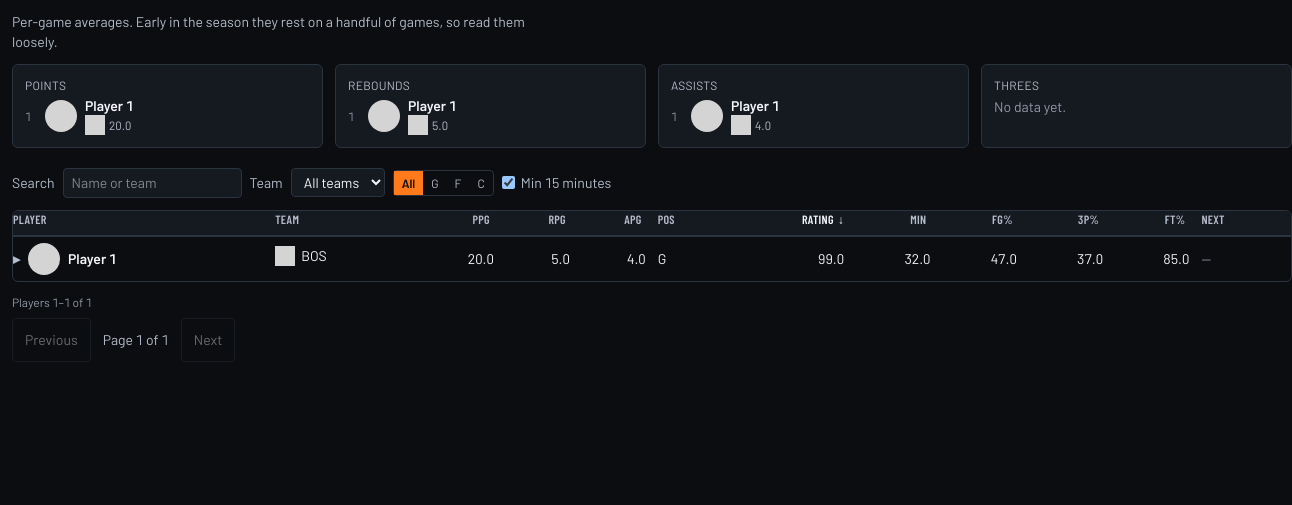
it: PlayerHubPanel › opens a player's detail with their last ten games
Expected: the text "Player 1" is shown, top-left (28, 242), bottom-right (116, 274)
Step 1. Click the button "▸ Player 1" → (65, 258), box top-left (13, 242), bottom-right (116, 274)
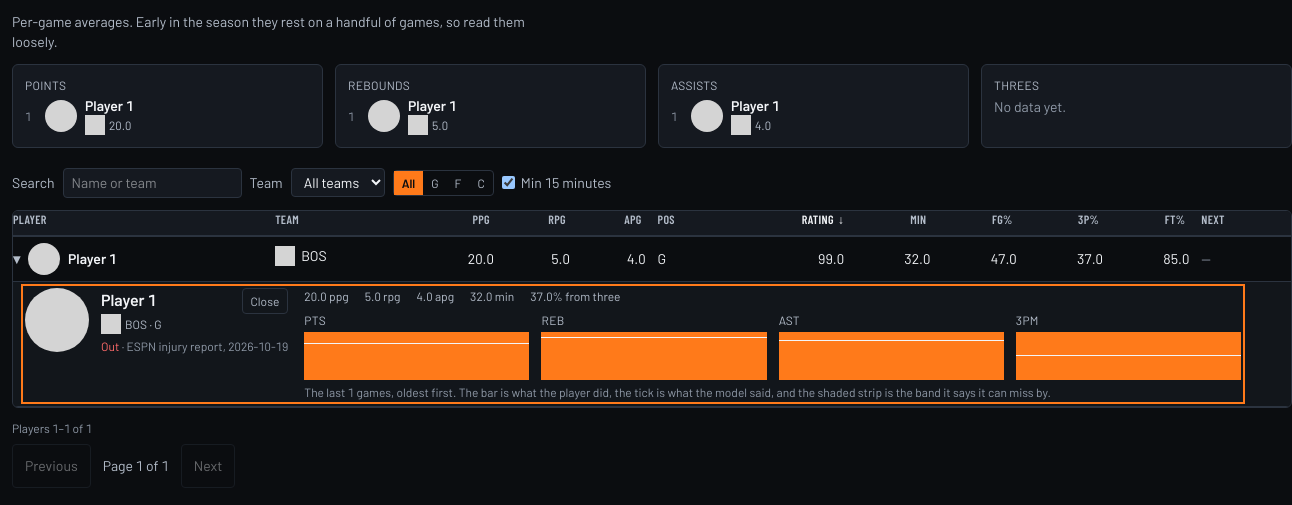
Result: the element with test id "player-chart-points" is shown at top-left (304, 312), bottom-right (530, 380)
Result: the element with test id "player-status" shows "Out" at top-left (101, 338), bottom-right (119, 352)
Result: the element with test id "player-averages" shows "20.0 ppg" at top-left (304, 288), bottom-right (620, 302)
